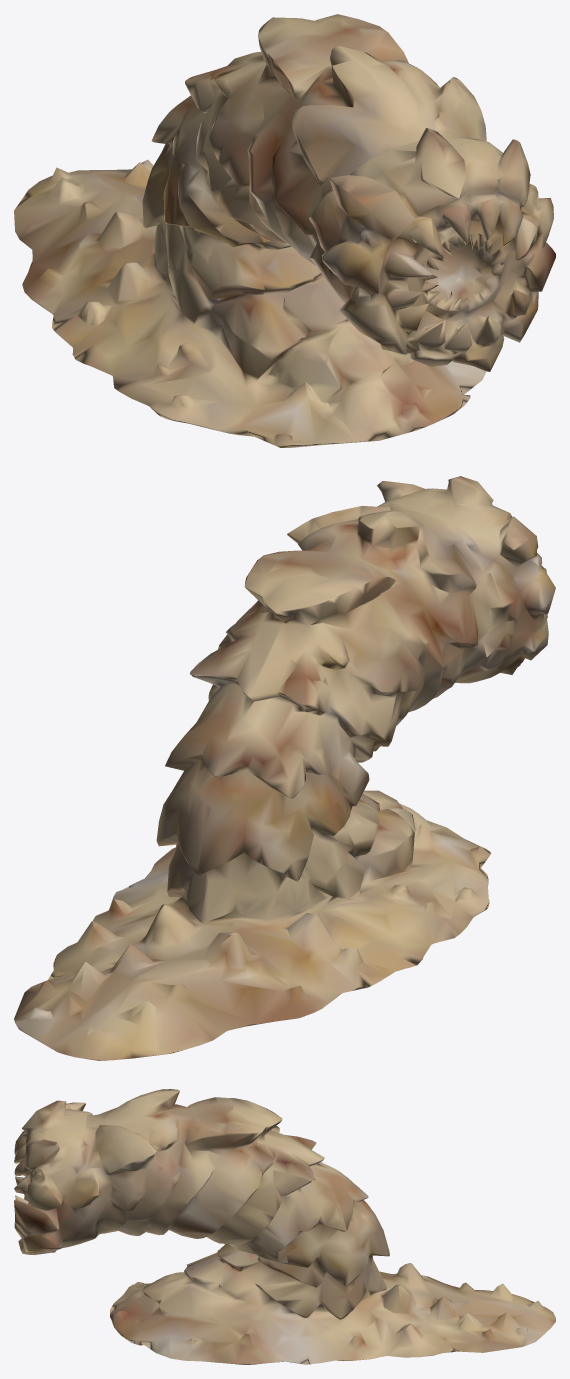
File: Sandwurm_game.glb
3 views of the same model, one above another, from view 1: azimuth 30°, elevation 25°; view 2: azimuth 150°, elevation 25°; view 3: azimuth 270°, elevation 25° (orthographic). The views are drawn at different scales.
Visible parts, largest first — view 1: Sandwurm; view 2: Sandwurm; view 3: Sandwurm.
Part boxes in pixels (left/top/right/bottom): Sandwurm: left=14, top=14, right=555, bottom=447; Sandwurm: left=14, top=476, right=555, bottom=1060; Sandwurm: left=14, top=1089, right=555, bottom=1364.
Bounding box in the file's own units: 0.4764 × 0.4999 × 1.1.
